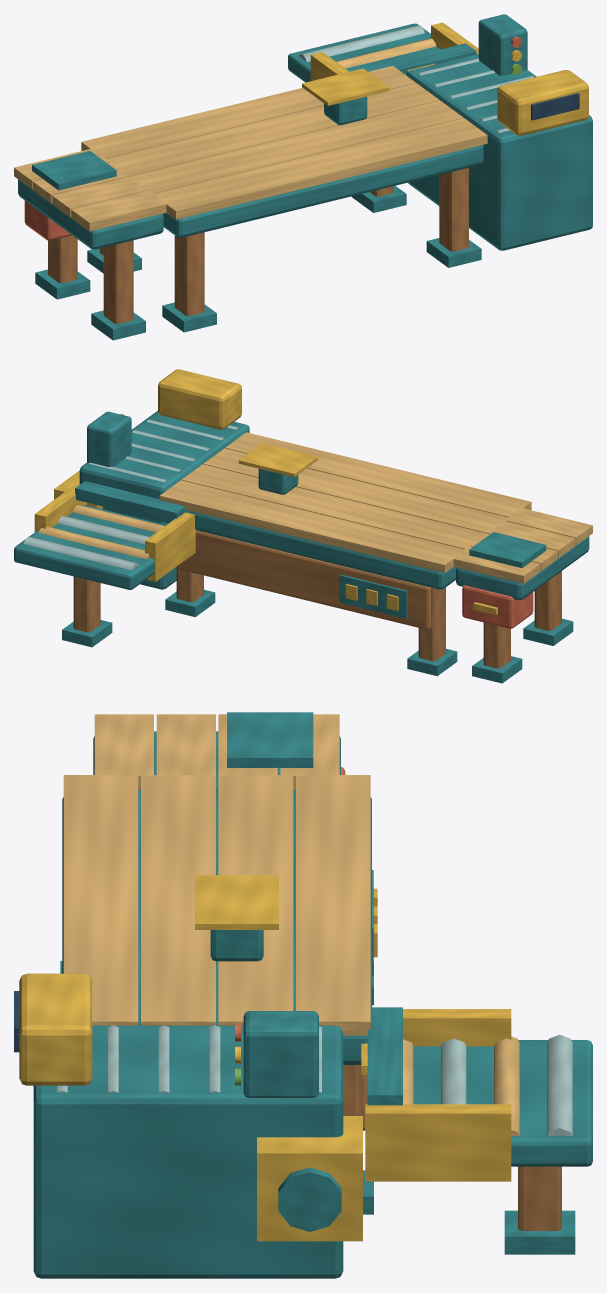
Rendered from industry-market-stall-tier-3.glb.
The picture shows the model from 3 angles, top to bottom: view 1: azimuth 30°, elevation 25°; view 2: azimuth 150°, elevation 25°; view 3: azimuth 270°, elevation 25°; orthographic projection. The views are drawn at different scales.
Parts seen in each view (by area): view 1: industry-market-stall-tier-3-mesh; view 2: industry-market-stall-tier-3-mesh; view 3: industry-market-stall-tier-3-mesh.
Part boxes in pixels (bbox=[...]): industry-market-stall-tier-3-mesh: bbox=[14, 14, 592, 340]; industry-market-stall-tier-3-mesh: bbox=[14, 369, 592, 683]; industry-market-stall-tier-3-mesh: bbox=[14, 712, 592, 1278].
Size of the model in its own units: 4.34 by 1.33 by 2.62.
1 material, 1 textured.
